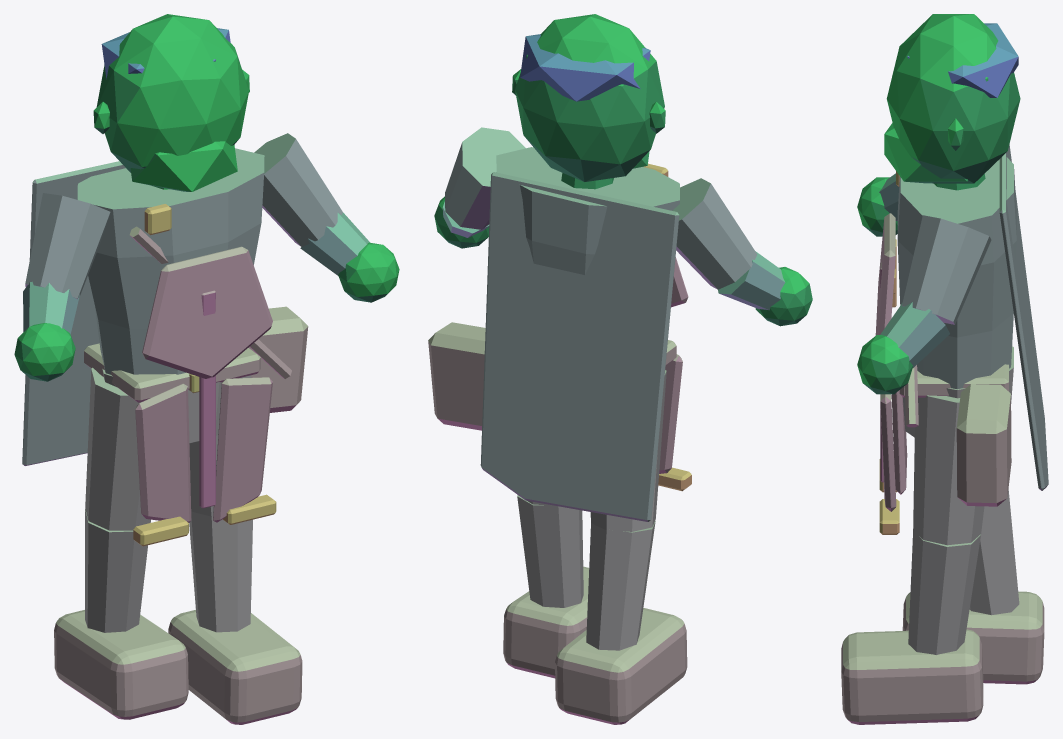
File: npc_healer_react_v01.glb
3 views of the same model, side by side, from view 1: azimuth 30°, elevation 25°; view 2: azimuth 150°, elevation 25°; view 3: azimuth 270°, elevation 25° (orthographic).
Parts seen in each view (by area): view 1: GEO_npc_healer_react_v01; view 2: GEO_npc_healer_react_v01; view 3: GEO_npc_healer_react_v01.
Boxes of the visible parts, box(x1,y1,x2,y2) form: GEO_npc_healer_react_v01: box(14, 14, 399, 724); GEO_npc_healer_react_v01: box(428, 14, 812, 724); GEO_npc_healer_react_v01: box(841, 14, 1048, 724).
Size of the model in its own units: 1.21 by 2.08 by 0.5781.
